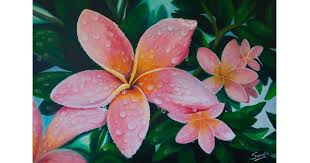frangipani: (50, 9, 220, 158)
